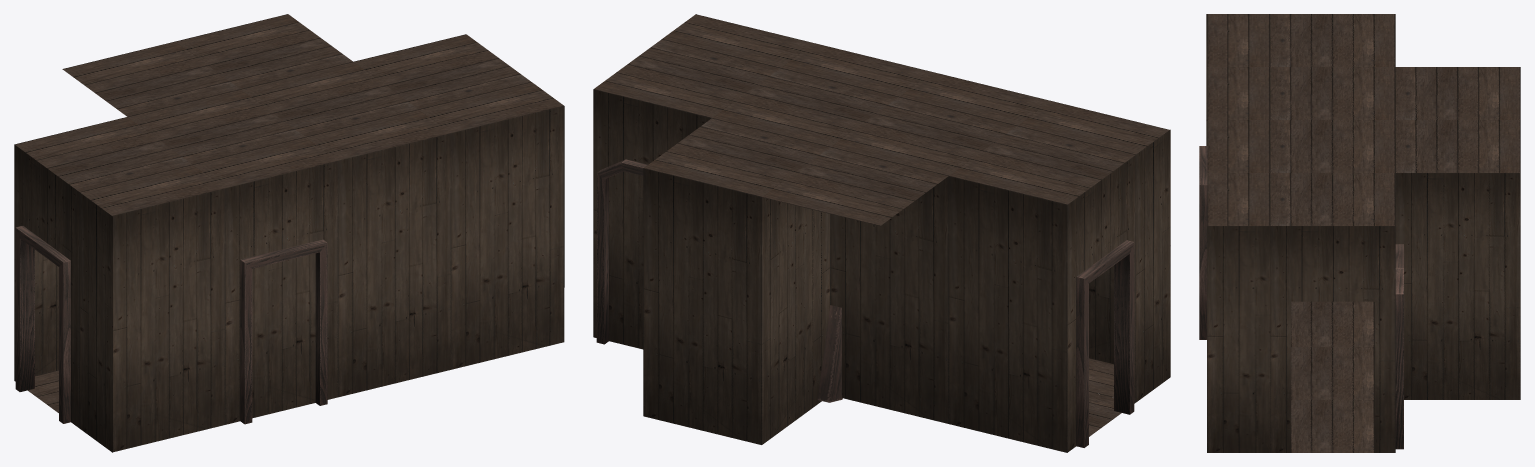
File: Hallway_Stage-3.fbx
The picture shows the model from 3 angles, left to right: view 1: azimuth 30°, elevation 25°; view 2: azimuth 150°, elevation 25°; view 3: azimuth 270°, elevation 25°; orthographic projection. The views are drawn at different scales.
Parts seen in each view (by area): view 1: Wall_W_3x3, Wall_W_3x1_5__1_, Wall_W_3x1_5__4_, Wall_W_3x0_75_Single_Faced, Floor_T_1_5x1_5__5_, Floor_T_1_5x1_5_1, Floor_T_1_5x1_5__2__1, Floor_T_1_5x1_5__3__1, Floor_T_1_5x1_5__1__1, Floor_T_1_5x1_5__4__1, Wall_W_3x1_5_Door, Doorframe_3x1_5 (+8 smaller); view 2: Wall_W_3x1_5, Wall_W_3x1_5__1__1, Wall_W_3x1_5_1, Wall_W_3x1_5__3_, Wall_W_3x1_5__2_, Wall_W_3x0_75_Single_Faced, Floor_T_1_5x1_5_1, Floor_T_1_5x1_5__4__1, Floor_T_1_5x1_5__1__1, Floor_T_1_5x1_5__5_, Floor_T_1_5x1_5__2__1, Floor_T_1_5x1_5__3__1 (+11 smaller); view 3: Wall_W_3x1_5__5_, Wall_W_3x1_5_Door__2_, Wall_W_3x0_75_Single_Faced__1_, Floor_T_1_5x1_5__1__1, Floor_T_1_5x1_5_1, Floor_T_1_5x1_5__5_, Floor_T_1_5x1_5__2__1, Floor_T_1_5x1_5__3__1, Floor_T_1_5x1_5__4__1, Floor_T_1_5x1_5__1_, Floor_T_1_5x1_5__2_, Floor_T_1_5x1_5__3_ (+6 smaller).
Part boxes in pixels (<box>): Wall_W_3x3: <box>338,106,564,397</box>; Wall_W_3x1_5__1_: <box>112,188,225,452</box>; Wall_W_3x1_5__4_: <box>225,161,338,424</box>; Wall_W_3x0_75_Single_Faced: <box>79,192,112,452</box>; Floor_T_1_5x1_5__5_: <box>62,41,239,116</box>; Floor_T_1_5x1_5_1: <box>175,14,352,89</box>; Floor_T_1_5x1_5__2__1: <box>353,34,530,109</box>; Floor_T_1_5x1_5__3__1: <box>128,89,304,164</box>; Floor_T_1_5x1_5__1__1: <box>241,62,417,136</box>; Floor_T_1_5x1_5__4__1: <box>15,117,191,191</box>; Wall_W_3x1_5_Door: <box>14,144,79,428</box>; Doorframe_3x1_5: <box>15,226,70,423</box>; Wall_W_3x1_5: <box>948,176,1067,452</box>; Wall_W_3x1_5__1__1: <box>643,168,761,444</box>; Wall_W_3x1_5_1: <box>830,176,948,423</box>; Wall_W_3x1_5__3_: <box>762,197,830,444</box>; Wall_W_3x1_5__2_: <box>593,89,711,349</box>; Wall_W_3x0_75_Single_Faced: <box>1135,129,1170,402</box>; Floor_T_1_5x1_5_1: <box>644,118,829,196</box>; Floor_T_1_5x1_5__4__1: <box>949,126,1134,204</box>; Floor_T_1_5x1_5__1__1: <box>712,68,898,146</box>; Floor_T_1_5x1_5__5_: <box>762,147,948,225</box>; Floor_T_1_5x1_5__2__1: <box>594,39,779,118</box>; Floor_T_1_5x1_5__3__1: <box>830,97,1016,175</box>; Wall_W_3x1_5__5_: <box>1395,173,1520,399</box>; Wall_W_3x1_5_Door__2_: <box>1270,226,1395,452</box>; Wall_W_3x0_75_Single_Faced__1_: <box>1207,226,1270,452</box>; Floor_T_1_5x1_5__1__1: <box>1270,120,1395,172</box>; Floor_T_1_5x1_5_1: <box>1395,120,1520,172</box>; Floor_T_1_5x1_5__5_: <box>1395,67,1520,119</box>; Floor_T_1_5x1_5__2__1: <box>1270,173,1395,225</box>; Floor_T_1_5x1_5__3__1: <box>1270,67,1395,119</box>; Floor_T_1_5x1_5__4__1: <box>1270,14,1395,66</box>; Floor_T_1_5x1_5__1_: <box>1291,347,1374,399</box>; Floor_T_1_5x1_5__2_: <box>1291,400,1374,452</box>; Floor_T_1_5x1_5__3_: <box>1291,301,1374,346</box>.
Size of the model in its own units: 610 by 302 by 385.
6 materials, 6 textured.
